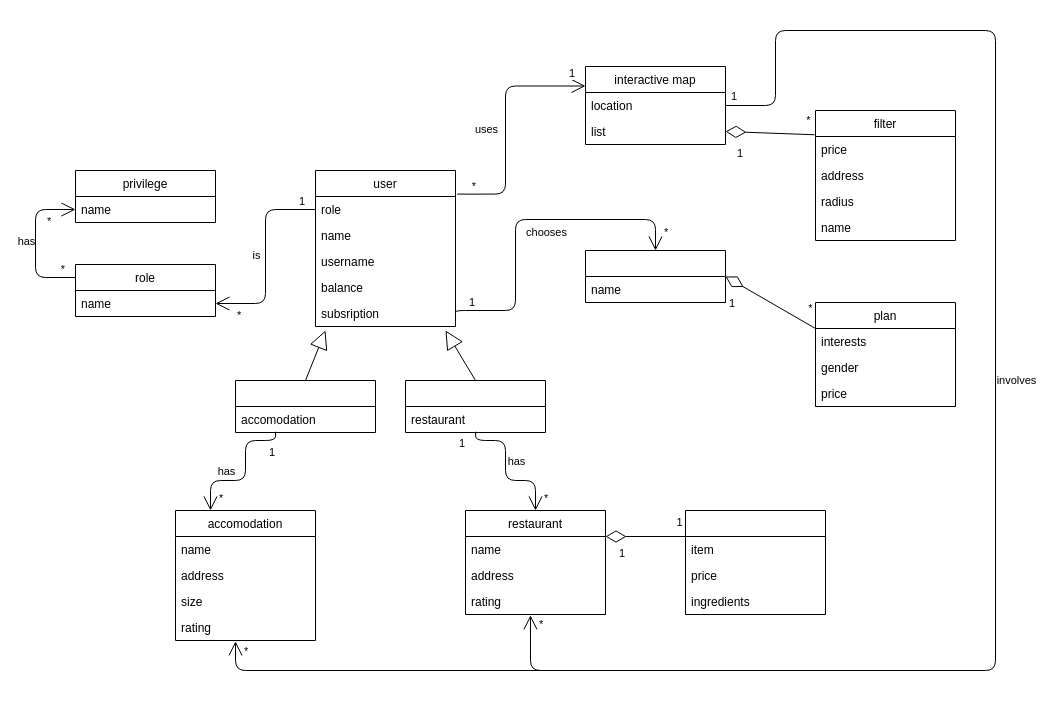
The diagram is 1053 pixels wide and 702 high, and some of its shapes have lost their labels. Here are the shapes that lost their labels. From the top down, the box of each, then its label:
(584, 250, 726, 302): subscription
(234, 380, 376, 432): accomodation owner
(404, 380, 546, 432): restaurant owner
(684, 510, 826, 614): menu
